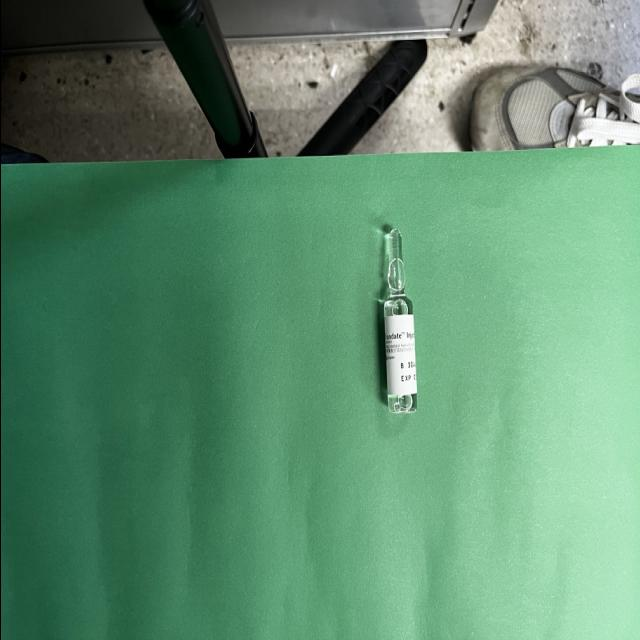Ampoules: (380, 227, 416, 413)
